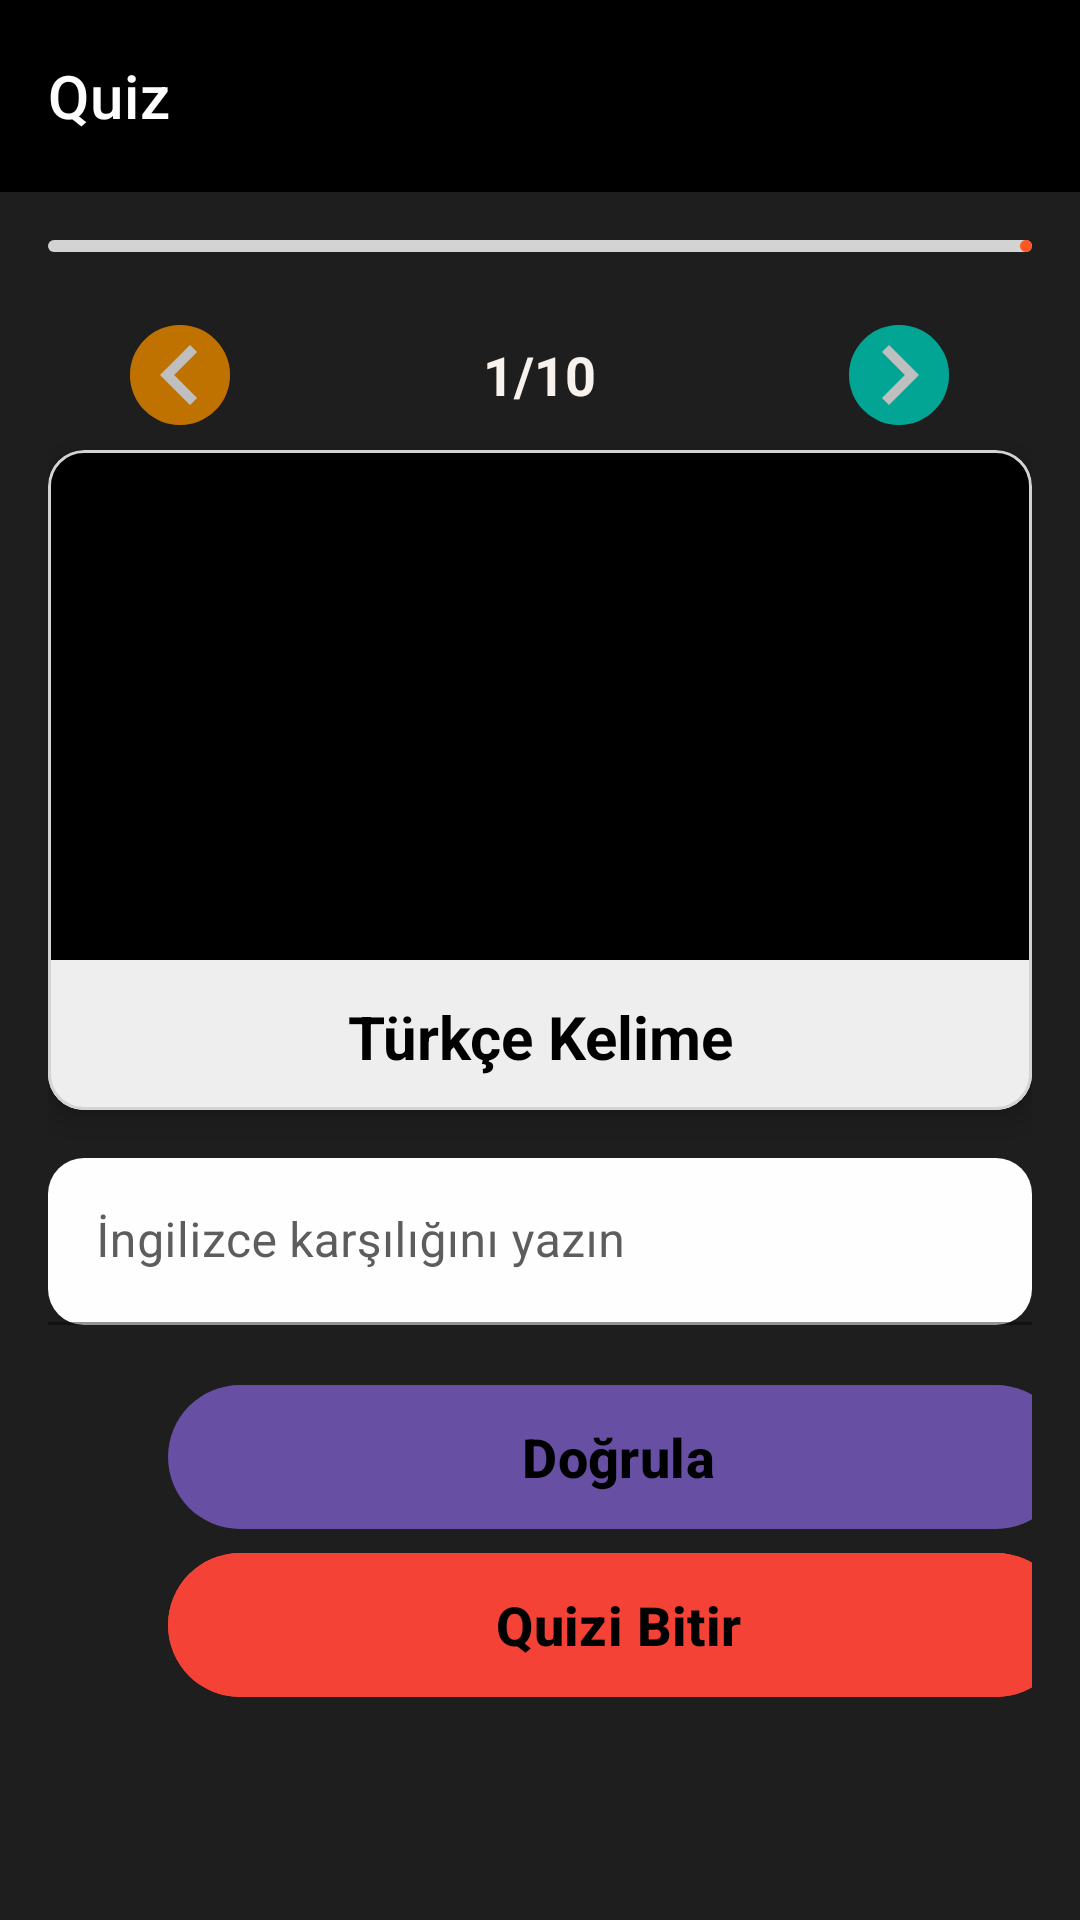

Icons on this 1080 × 1920 Android screen, each with its box as detection(x1, y1, x2, y2):
next: detection(849, 325, 949, 425)
previous: detection(130, 325, 230, 425)
